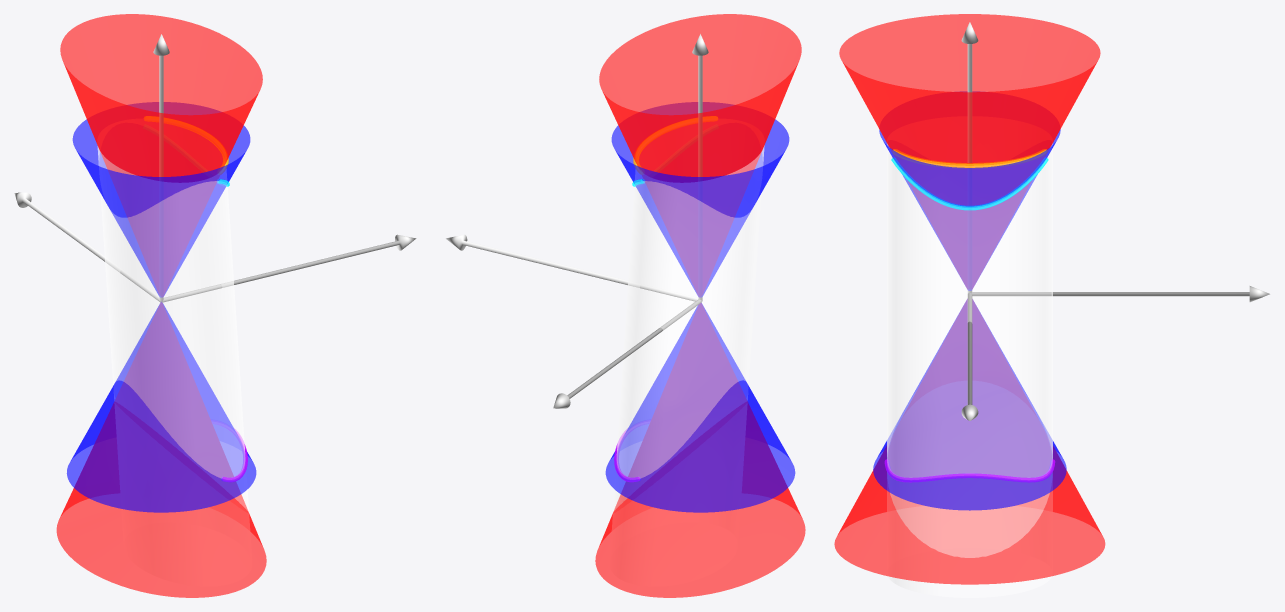
3 renders of one model, left to right at view 1: azimuth 30°, elevation 25°; view 2: azimuth 150°, elevation 25°; view 3: azimuth 270°, elevation 25°, orthographic. The views are drawn at different scales.
Visible parts, largest first — view 1: Cone.001, Cone.002, Cone, Cylinder, Cylinder.002, Cylinder.001, Cone.004; view 2: Cone.001, Cone.002, Cone, Cylinder, Cylinder.002, Cylinder.001, Cone.004; view 3: Cone.002, Cone.001, Cone, Cylinder.002, Cone.006, Cone.005, Cone.004, Cylinder, Cylinder.001.
Boxes of the visible parts, x1,y1,x2,y2 form: Cone.001: [56, 14, 266, 597]; Cone.002: [97, 146, 251, 585]; Cone: [67, 102, 256, 512]; Cylinder: [162, 234, 416, 302]; Cylinder.002: [14, 192, 160, 302]; Cylinder.001: [153, 34, 169, 301]; Cone.004: [144, 116, 228, 174]; Cone.001: [595, 14, 805, 597]; Cone.002: [610, 145, 764, 585]; Cone: [605, 102, 795, 512]; Cylinder: [446, 234, 698, 301]; Cylinder.002: [553, 299, 702, 408]; Cylinder.001: [692, 34, 708, 300]; Cone.004: [633, 116, 717, 174]; Cone.002: [887, 143, 1052, 597]; Cone.001: [834, 14, 1105, 584]; Cone: [873, 91, 1066, 510]; Cylinder.002: [972, 286, 1269, 302]; Cone.006: [884, 459, 1055, 482]; Cone.005: [891, 158, 1048, 210]; Cone.004: [892, 149, 1046, 168]; Cylinder: [961, 293, 978, 420]; Cylinder.001: [961, 22, 978, 293].
Bounding box in the file's own units: 3.94 × 5.88 × 4.32.
